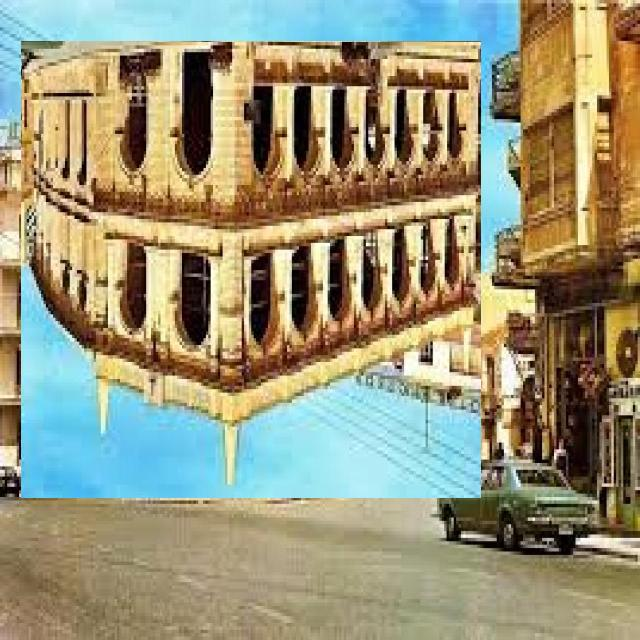Loggia: (22, 42, 482, 499)
